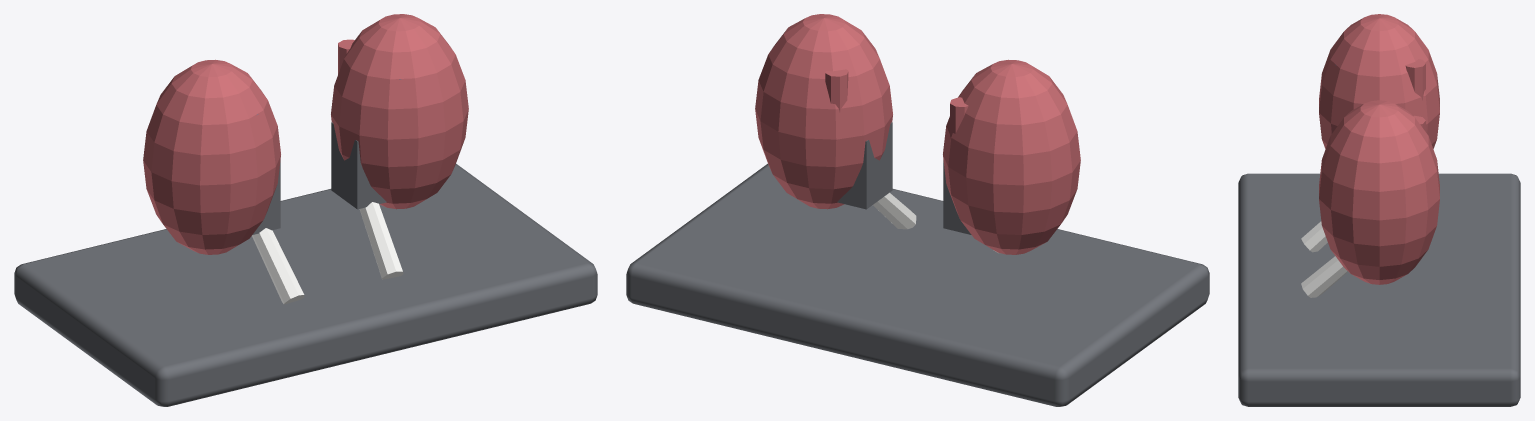
The model's file is kidney.glb.
3 renders of one model, left to right at view 1: azimuth 30°, elevation 25°; view 2: azimuth 150°, elevation 25°; view 3: azimuth 270°, elevation 25°, orthographic. The views are drawn at different scales.
Visible parts, largest first — view 1: kidney-model; view 2: kidney-model; view 3: kidney-model.
Part boxes in pixels (x1=…): kidney-model: x1=14, y1=14, x2=597, y2=406; kidney-model: x1=626, y1=14, x2=1209, y2=406; kidney-model: x1=1238, y1=14, x2=1520, y2=406.
Bounding box in the file's own units: 0.34 × 0.1937 × 0.2.
